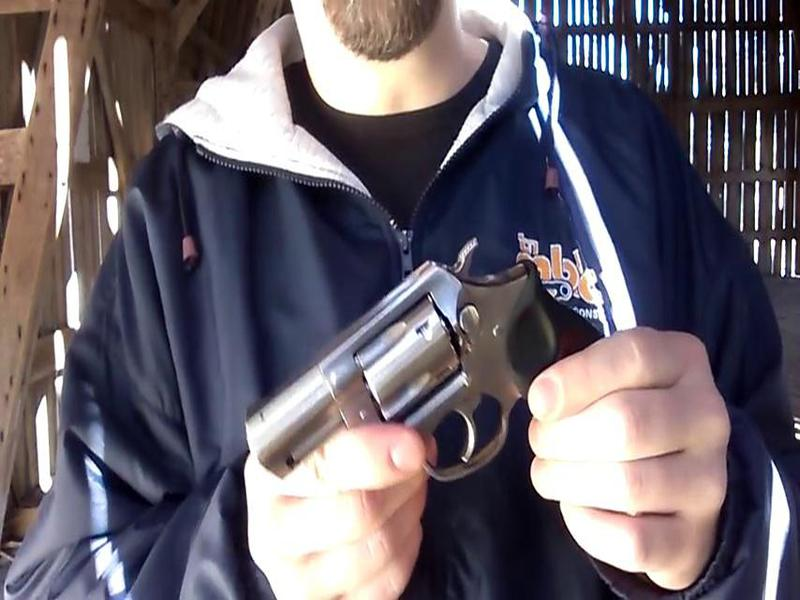Revolver: (213, 204, 643, 515)
